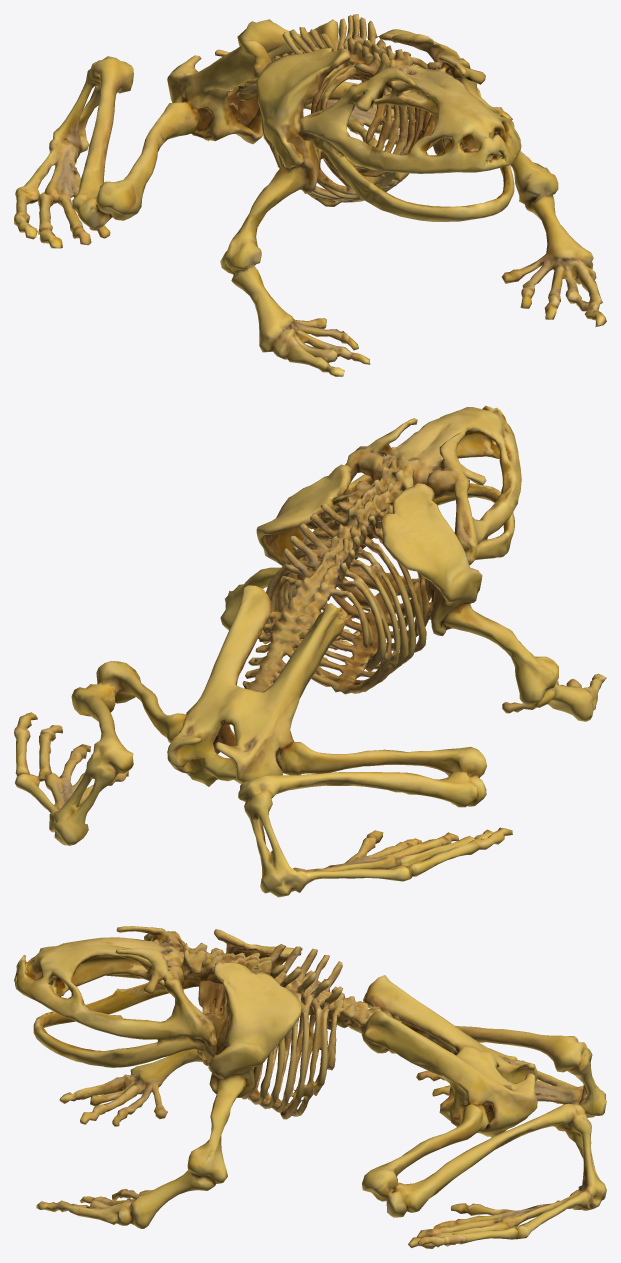
File: 1761088825644_sapoOssea.glb
3 renders of one model, top to bottom at view 1: azimuth 30°, elevation 25°; view 2: azimuth 150°, elevation 25°; view 3: azimuth 270°, elevation 25°, orthographic. The views are drawn at different scales.
Parts seen in each view (by area): view 1: Mesh1.0; view 2: Mesh1.0; view 3: Mesh1.0.
Boxes of the visible parts, x1,y1,x2,y2 form: Mesh1.0: (14, 14, 606, 376); Mesh1.0: (14, 405, 606, 897); Mesh1.0: (14, 926, 606, 1248).
Bounding box in the file's own units: 1.61 × 0.809 × 1.91.
1 material, 1 textured.
